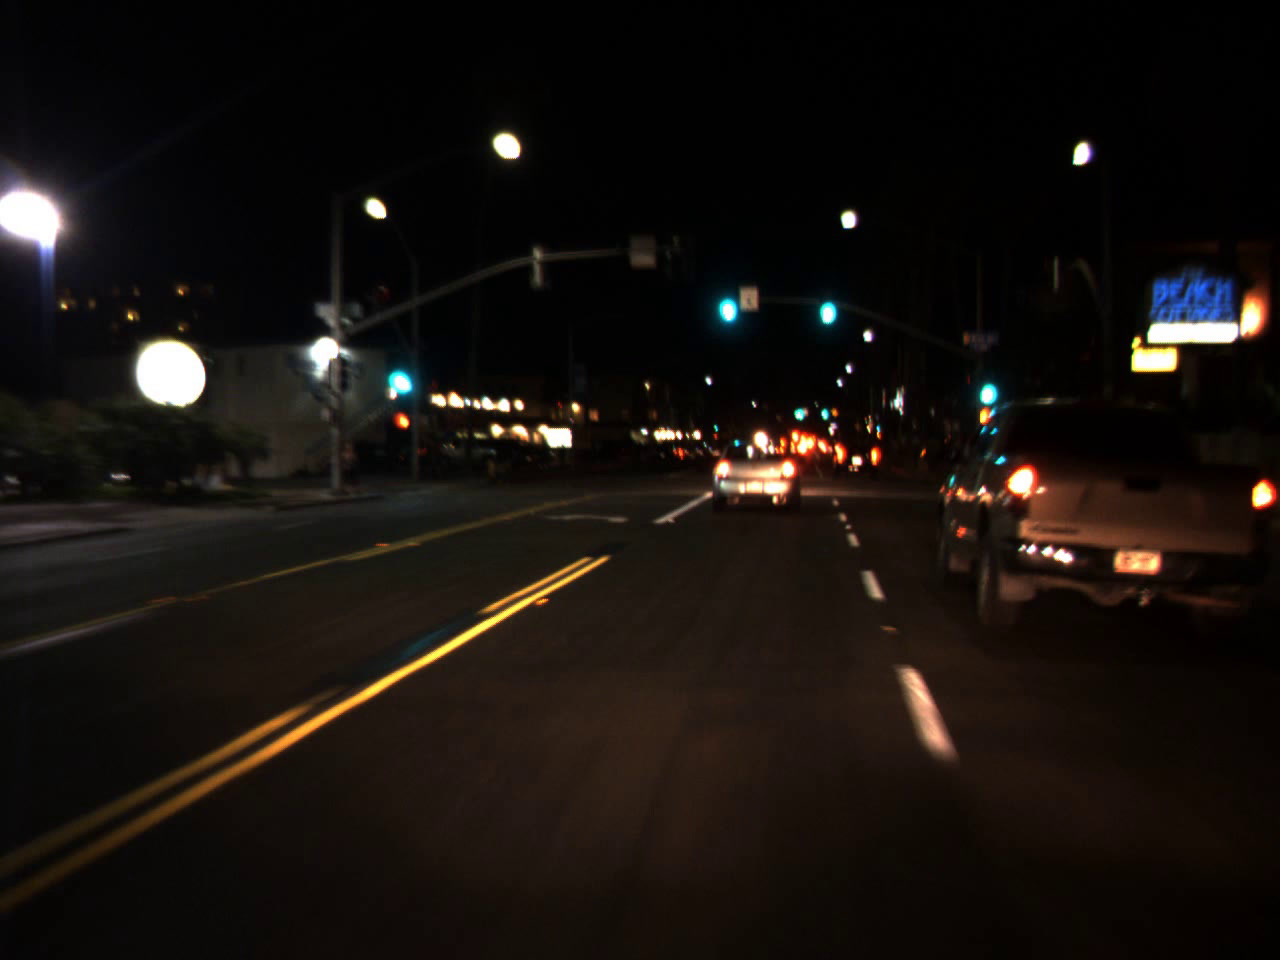go: (377, 339, 418, 405), (712, 268, 740, 331), (813, 271, 840, 334), (976, 364, 997, 412), (792, 396, 806, 423), (820, 401, 829, 419)
